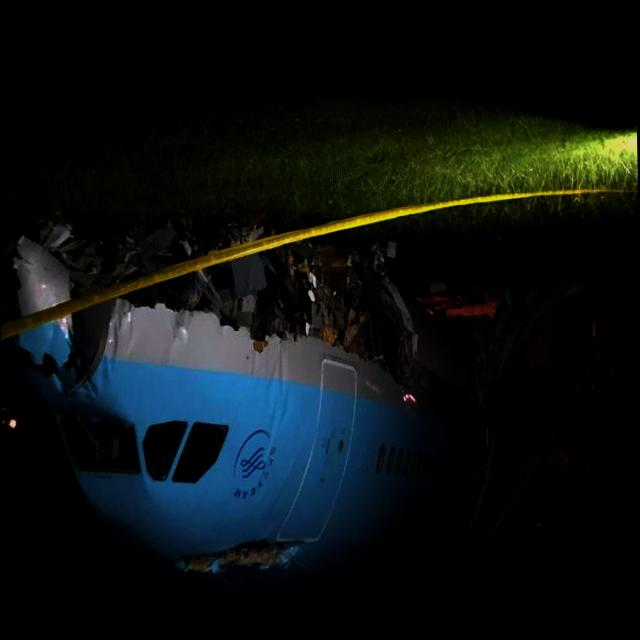crack: (175, 532, 306, 582)
